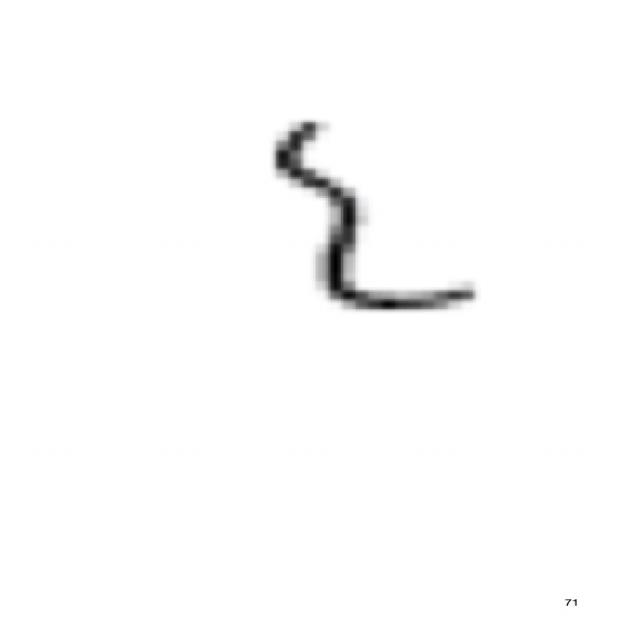4 -four-: (247, 107, 497, 324)
